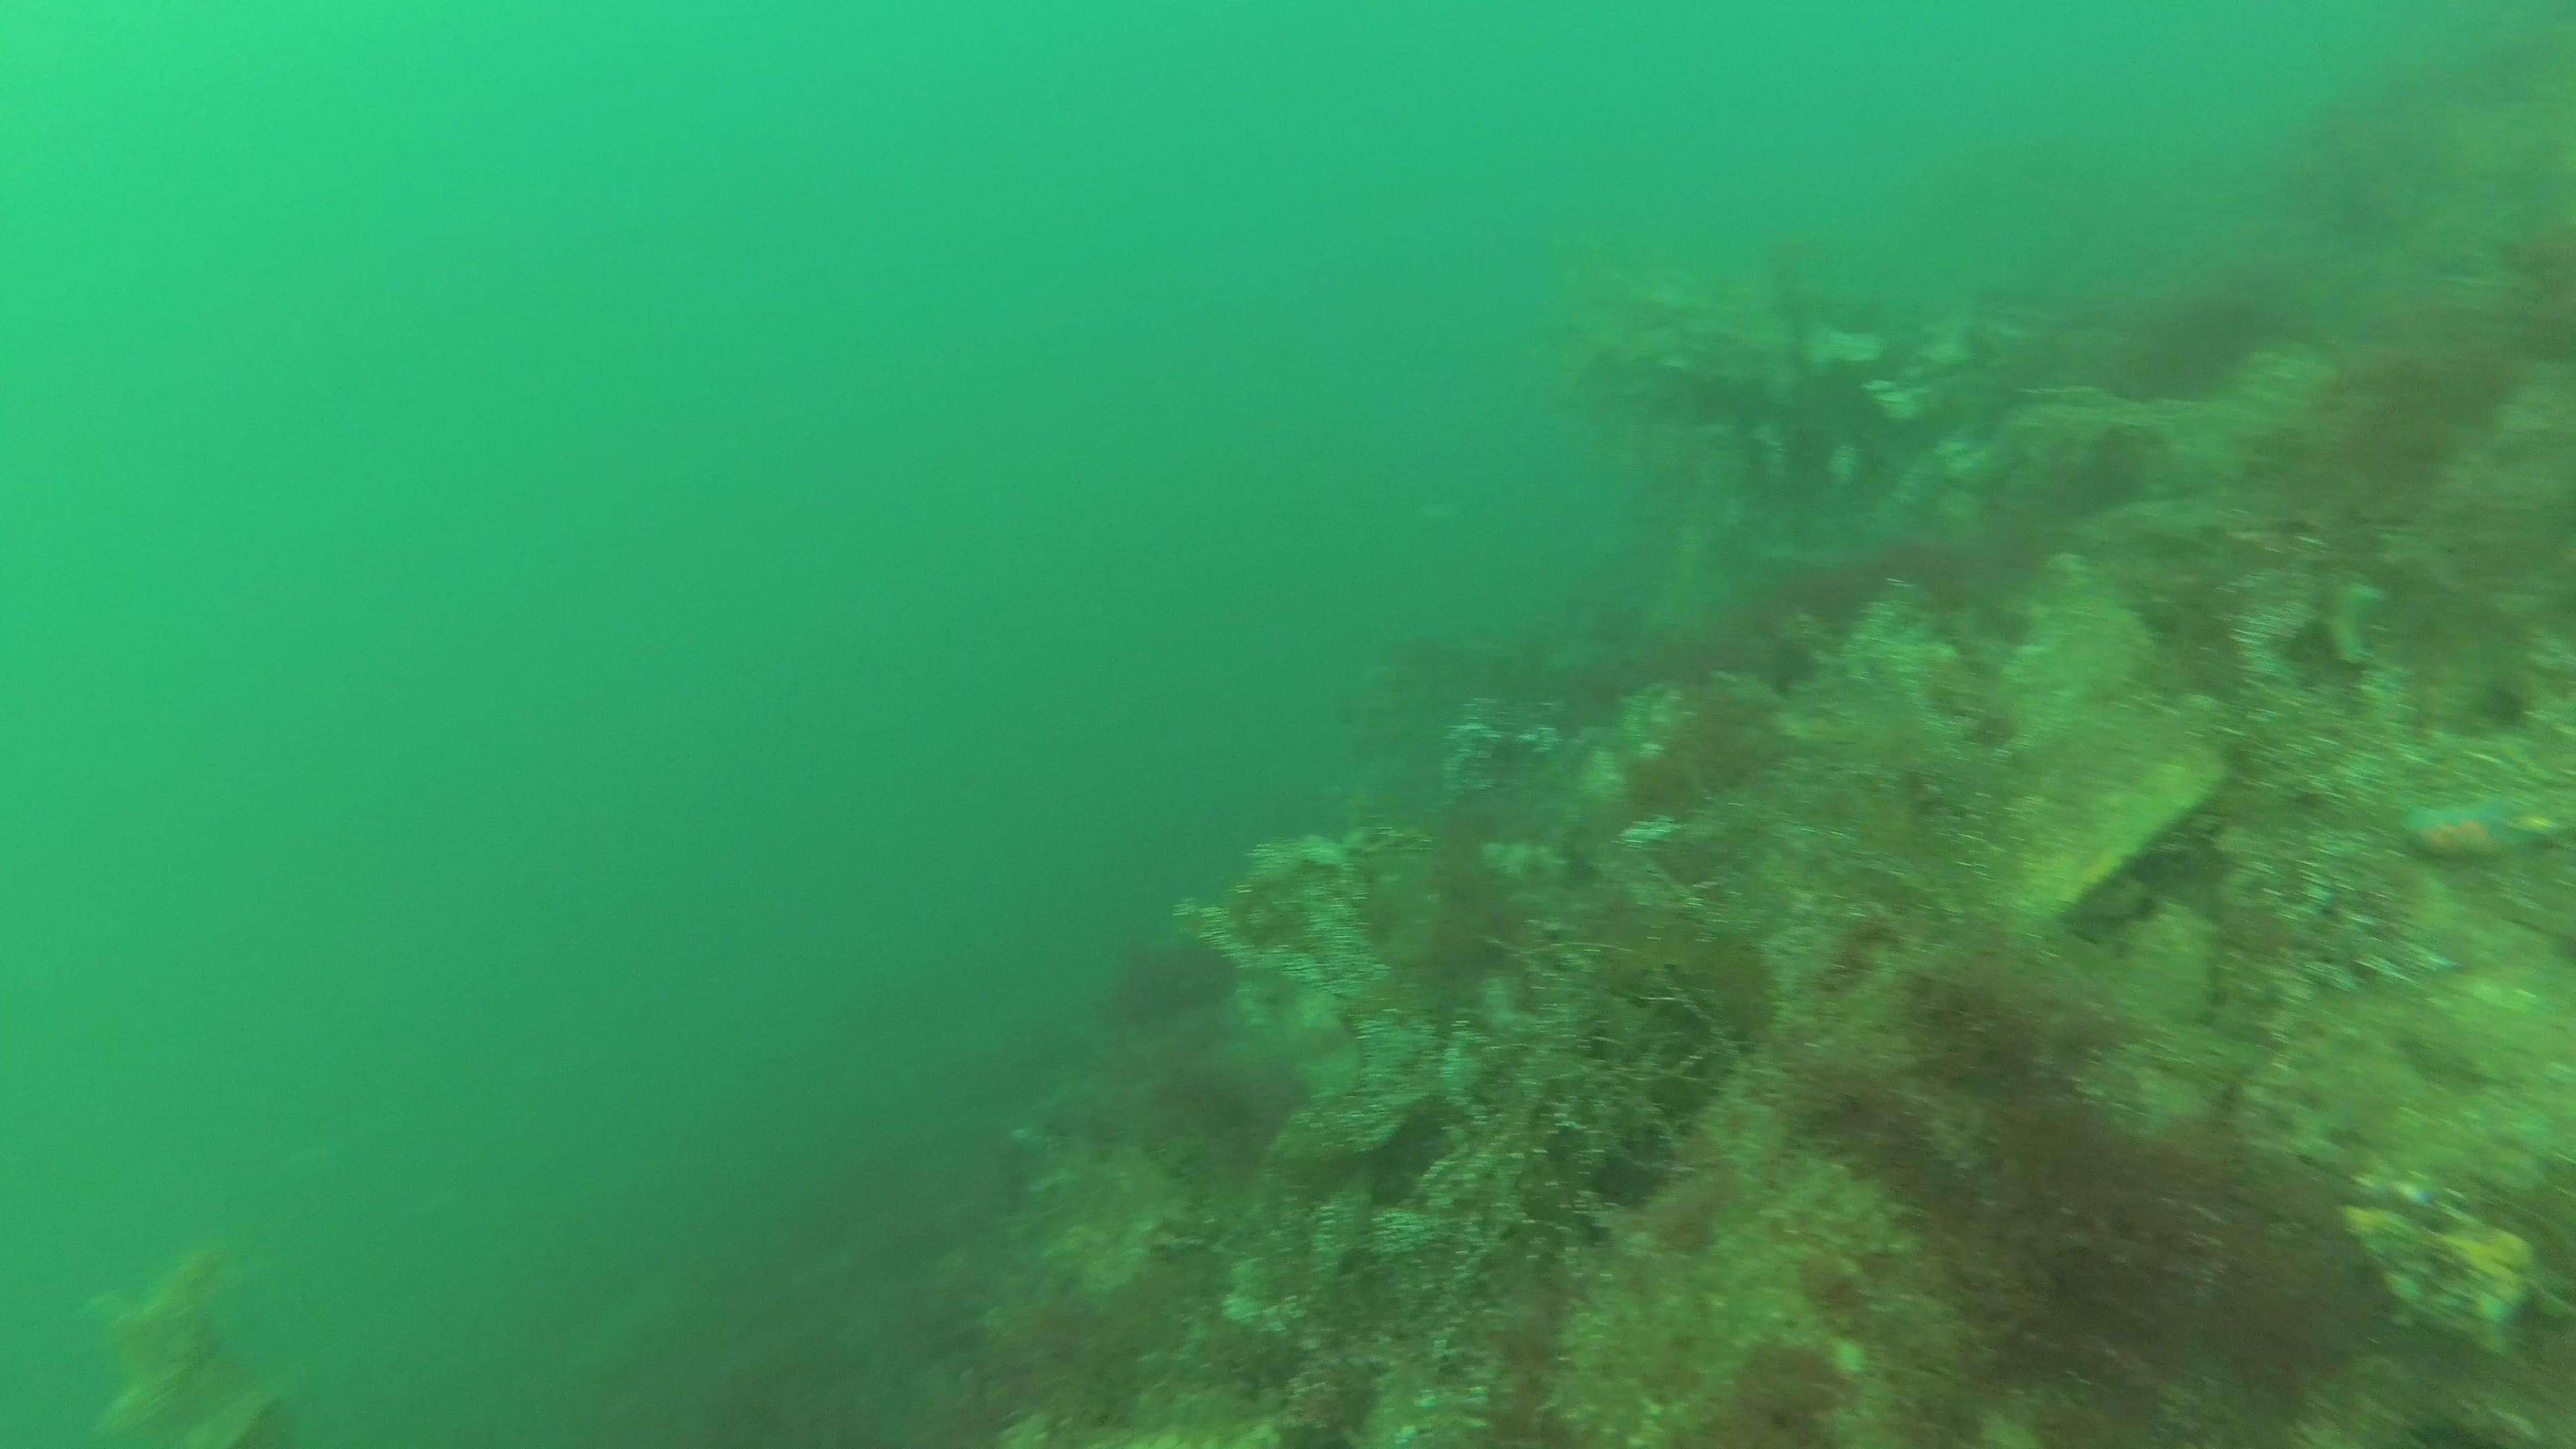starfish: (2399, 800, 2557, 863)
